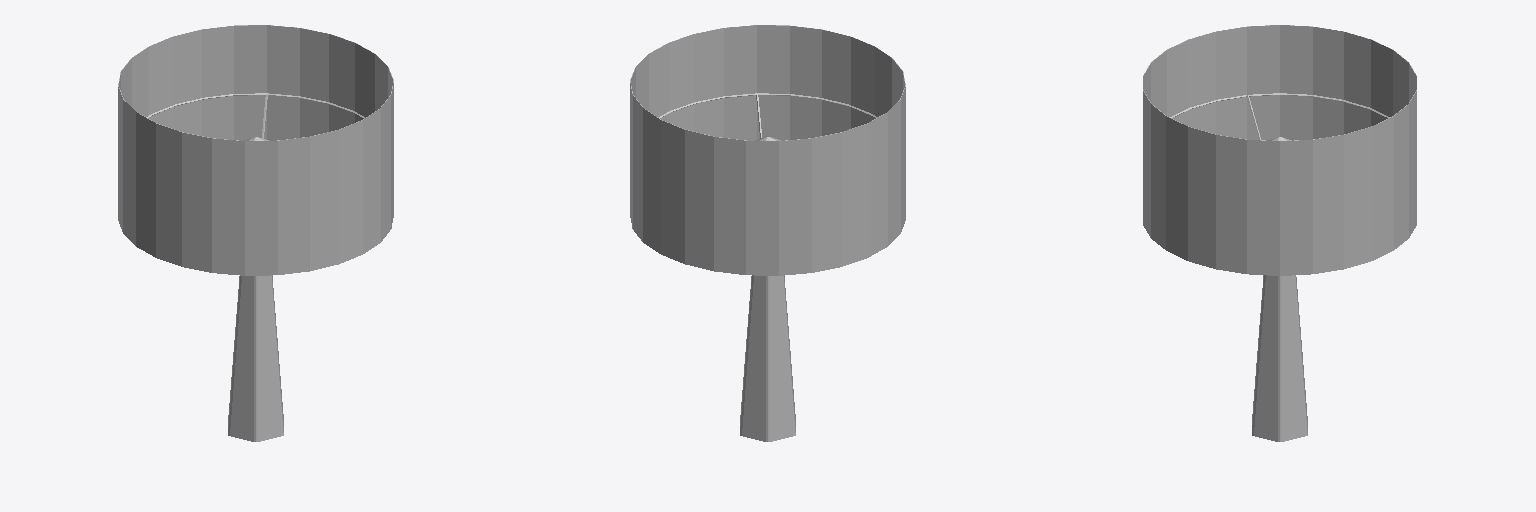
The model's file is Table Lamp.obj.
3 views of the same model, side by side, from view 1: azimuth 30°, elevation 25°; view 2: azimuth 150°, elevation 25°; view 3: azimuth 270°, elevation 25° (orthographic).
Visible parts, largest first — view 1: Table_Lamp; view 2: Table_Lamp; view 3: Table_Lamp.
Part boxes in pixels (x1,y1,x2,y2): Table_Lamp: (118, 25, 393, 441); Table_Lamp: (630, 25, 905, 441); Table_Lamp: (1143, 25, 1416, 441).
Size of the model in its own units: 17.98 by 24.83 by 17.85.